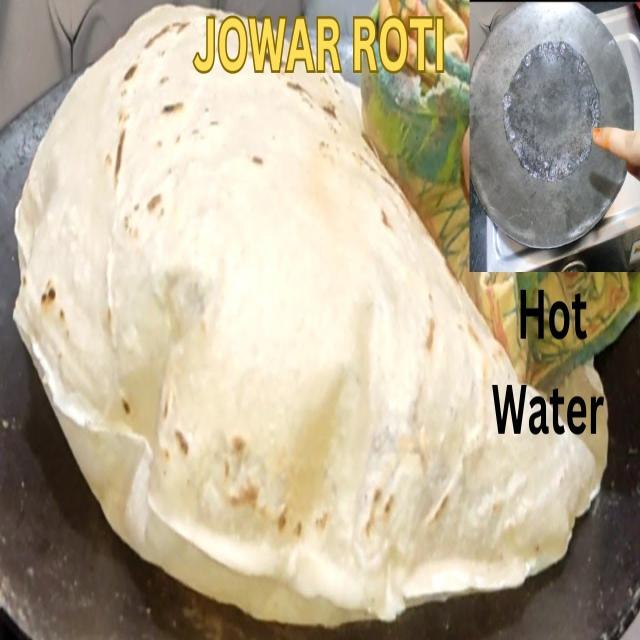ROTI: (12, 7, 600, 611)
